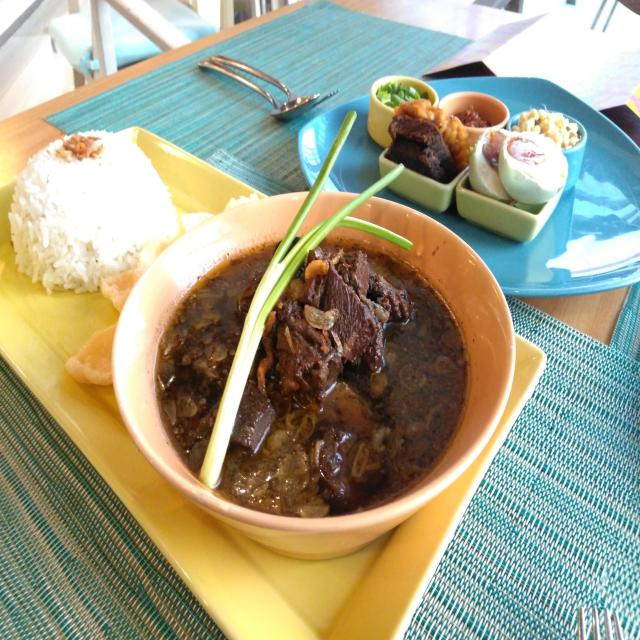Rawon: (164, 240, 450, 497)
